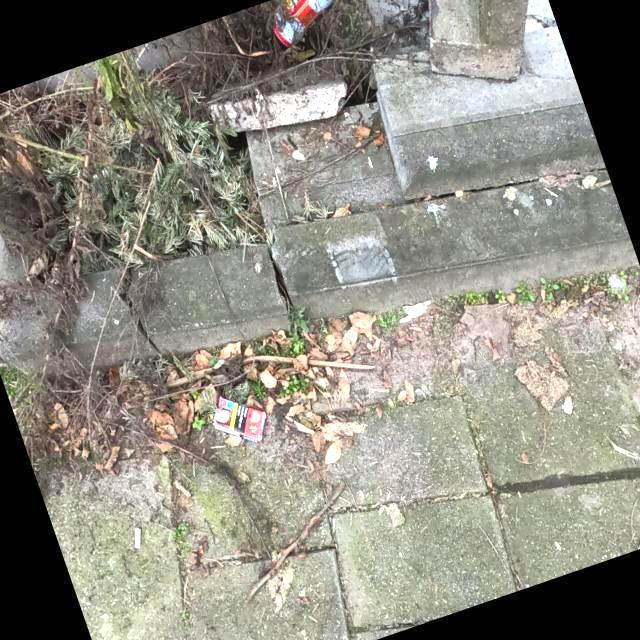Metal: (270, 0, 331, 46)
Paper: (212, 394, 268, 444)
